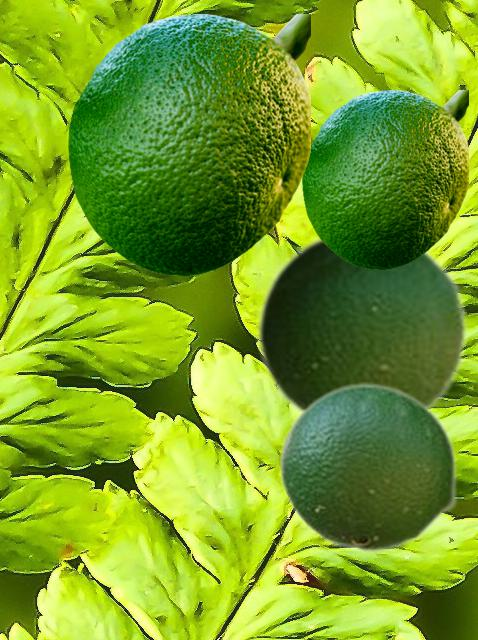dalandan: (68, 14, 309, 274), (255, 234, 468, 414), (278, 382, 457, 553), (302, 90, 467, 268)
